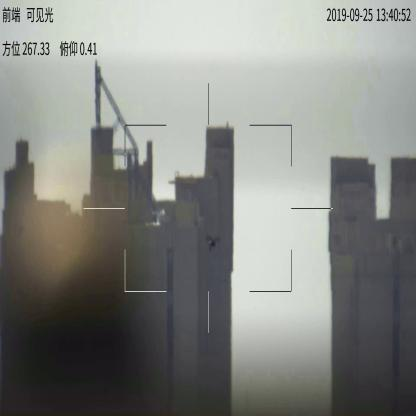uav: (206, 230, 220, 255)
